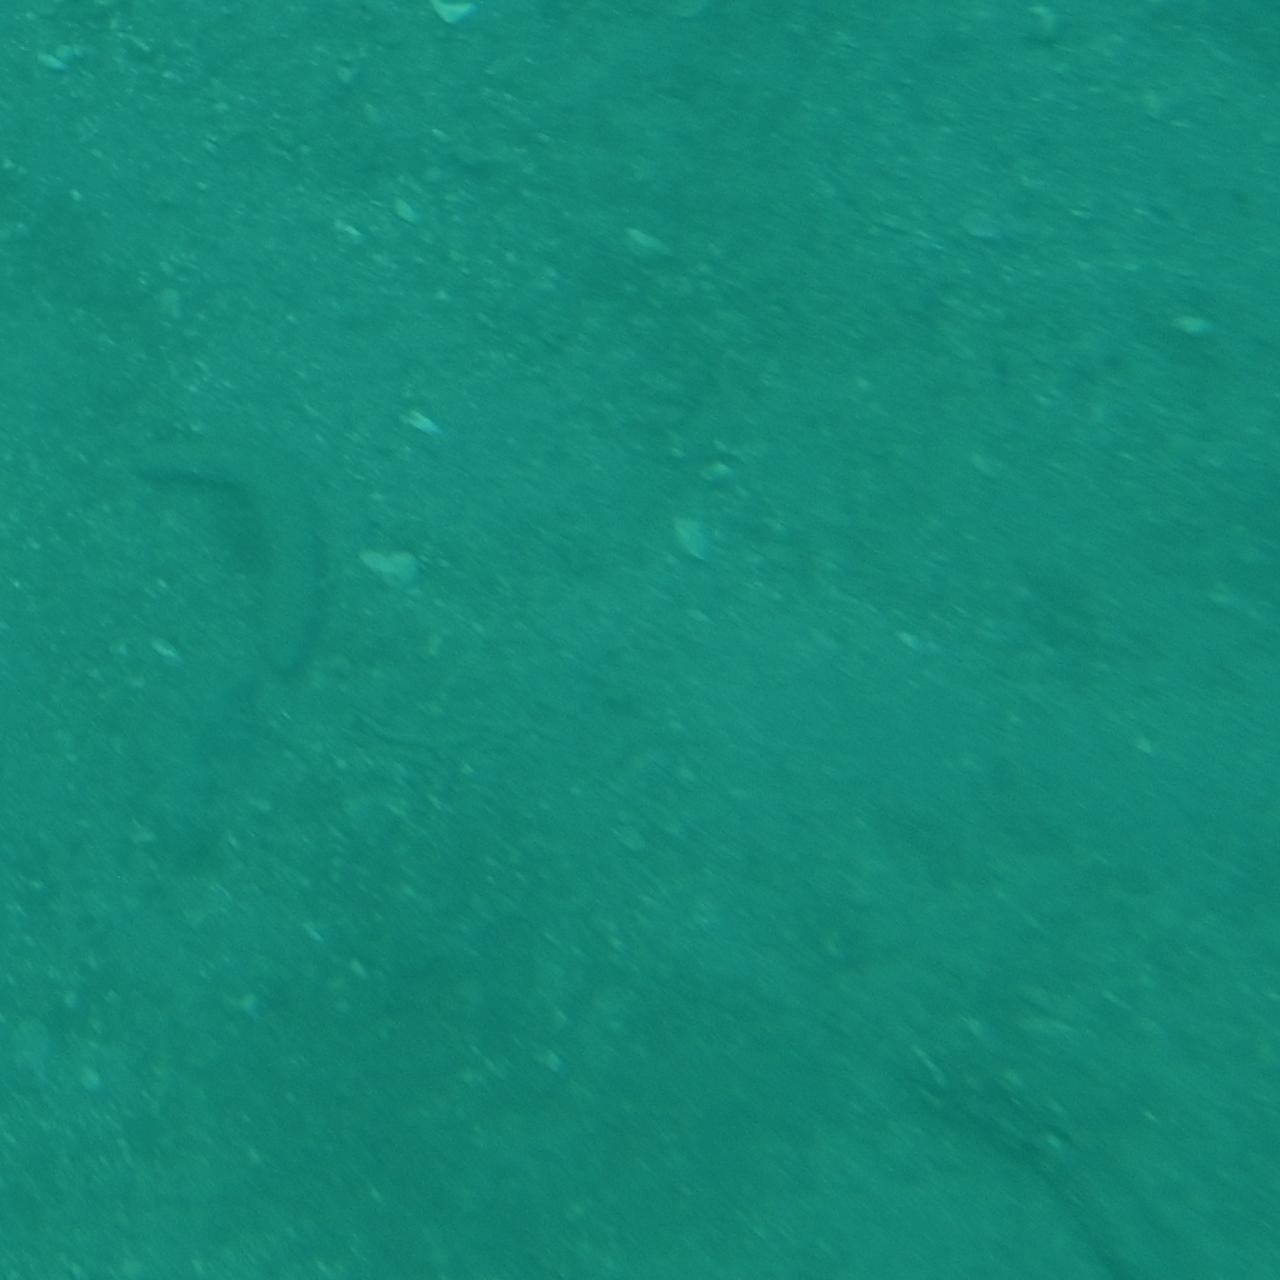Holothuria tubulosa: (900, 1015, 1189, 1279), (128, 437, 345, 701)
